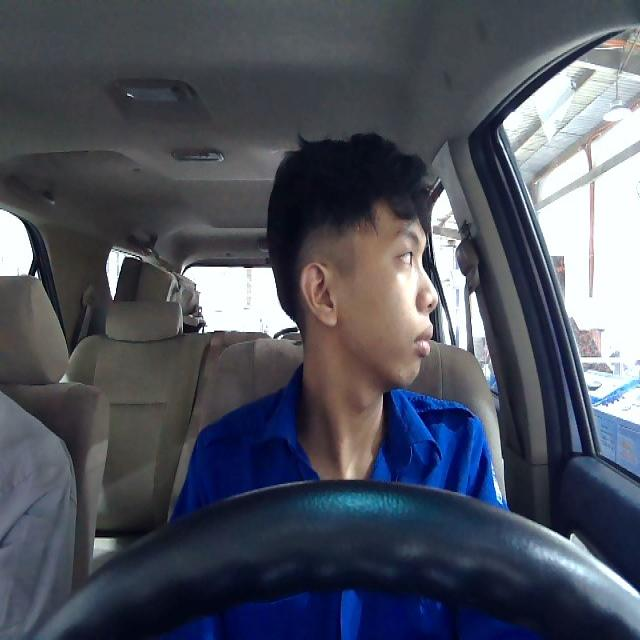seeing_right: (297, 192, 438, 389)
